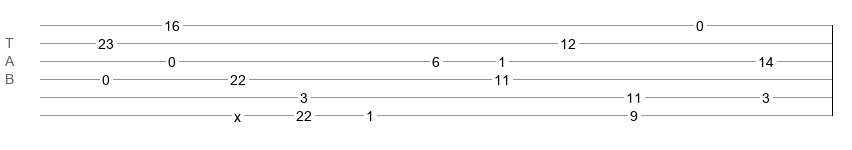0: (102, 72, 110, 82), (168, 54, 176, 64), (696, 18, 704, 28)
1: (366, 108, 374, 118), (498, 54, 506, 64)
11: (494, 72, 510, 82), (626, 90, 642, 100)
12: (560, 36, 576, 46)
14: (758, 54, 774, 64)
16: (164, 18, 180, 28)
22: (230, 72, 246, 82), (296, 108, 312, 118)
23: (98, 36, 114, 46)
3: (300, 90, 308, 100), (762, 90, 770, 100)
6: (432, 54, 440, 64)
9: (630, 108, 638, 118)
x: (234, 109, 241, 117)
